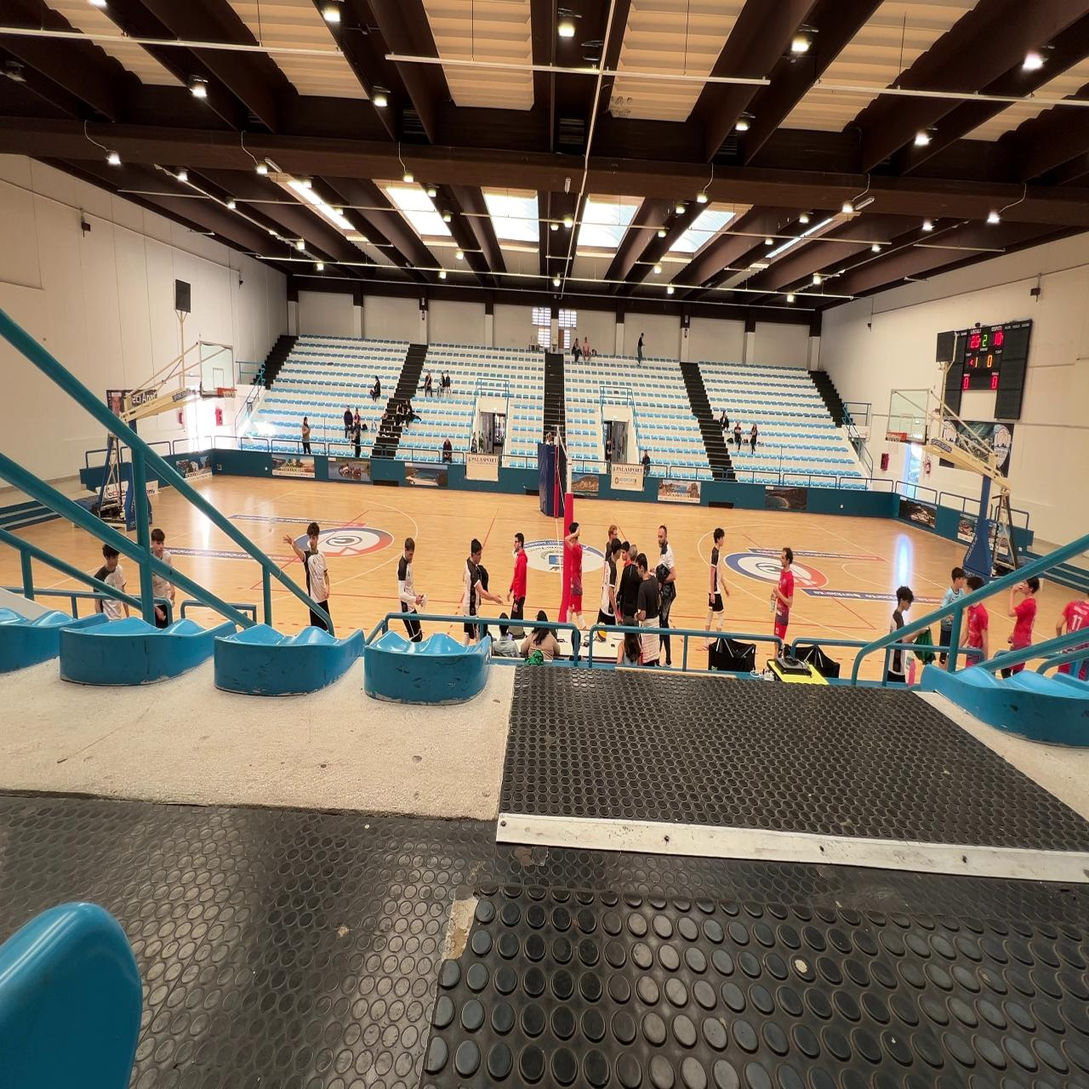ball: (598, 623, 608, 641)
